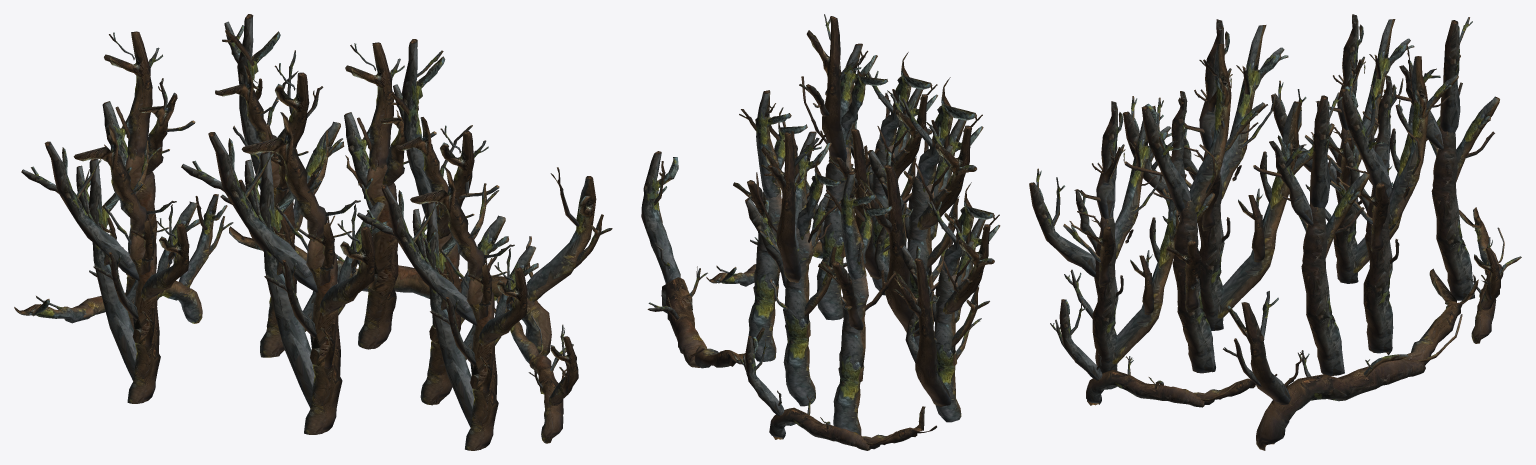
The model's file is dead-trees-1.glb.
The picture shows the model from 3 angles, left to right: view 1: azimuth 30°, elevation 25°; view 2: azimuth 150°, elevation 25°; view 3: azimuth 270°, elevation 25°; orthographic projection. The views are drawn at different scales.
Parts seen in each view (by area): view 1: strick_2_fromzephyre.029_strick_2_fromzephyre.037_strick_2_f (×3), strick_2_fromzephyre.028_strick_2_fromzephyre.029_strick_2_f (×3), strick_2_fromzephyre.003_strick_2_fromzephyre.020_strick_2_f, strick_2_fromzephyre.003, strick_2_fromzephyre.002, strick_2_fromzephyre.003_strick_2_fromzephyre.002_0.001; view 2: strick_2_fromzephyre.029_strick_2_fromzephyre.037_strick_2_f (×3), strick_2_fromzephyre.002, strick_2_fromzephyre.028_strick_2_fromzephyre.029_strick_2_f (×3), strick_2_fromzephyre.003_strick_2_fromzephyre.020_strick_2_f, strick_2_fromzephyre.003_strick_2_fromzephyre.002_0.001, strick_2_fromzephyre.003; view 3: strick_2_fromzephyre.029_strick_2_fromzephyre.037_strick_2_f (×3), strick_2_fromzephyre.028_strick_2_fromzephyre.029_strick_2_f (×3), strick_2_fromzephyre.002, strick_2_fromzephyre.003_strick_2_fromzephyre.020_strick_2_f, strick_2_fromzephyre.003, strick_2_fromzephyre.003_strick_2_fromzephyre.002_0.001.
Boxes of the visible parts, bbox=[...] form: strick_2_fromzephyre.029_strick_2_fromzephyre.037_strick_2_f (×3): bbox=[21, 112, 538, 450]; strick_2_fromzephyre.028_strick_2_fromzephyre.029_strick_2_f (×3): bbox=[14, 167, 612, 443]; strick_2_fromzephyre.003_strick_2_fromzephyre.020_strick_2_f: bbox=[387, 39, 508, 405]; strick_2_fromzephyre.003: bbox=[344, 42, 436, 349]; strick_2_fromzephyre.002: bbox=[215, 14, 344, 357]; strick_2_fromzephyre.003_strick_2_fromzephyre.002_0.001: bbox=[102, 31, 195, 329]; strick_2_fromzephyre.029_strick_2_fromzephyre.037_strick_2_f (×3): bbox=[828, 52, 1000, 422]; strick_2_fromzephyre.002: bbox=[745, 130, 846, 406]; strick_2_fromzephyre.028_strick_2_fromzephyre.029_strick_2_f (×3): bbox=[641, 151, 936, 450]; strick_2_fromzephyre.003_strick_2_fromzephyre.020_strick_2_f: bbox=[799, 14, 887, 320]; strick_2_fromzephyre.003_strick_2_fromzephyre.002_0.001: bbox=[818, 171, 896, 435]; strick_2_fromzephyre.003: bbox=[733, 90, 809, 361]; strick_2_fromzephyre.029_strick_2_fromzephyre.037_strick_2_f (×3): bbox=[1029, 14, 1440, 373]; strick_2_fromzephyre.028_strick_2_fromzephyre.029_strick_2_f (×3): bbox=[1050, 207, 1521, 450]; strick_2_fromzephyre.002: bbox=[1330, 45, 1458, 355]; strick_2_fromzephyre.003_strick_2_fromzephyre.020_strick_2_f: bbox=[1124, 43, 1265, 373]; strick_2_fromzephyre.003: bbox=[1253, 92, 1369, 375]; strick_2_fromzephyre.003_strick_2_fromzephyre.002_0.001: bbox=[1383, 17, 1499, 300].
Size of the model in its own units: 58.26 by 42.39 by 55.81.
10 materials, 10 textured.
